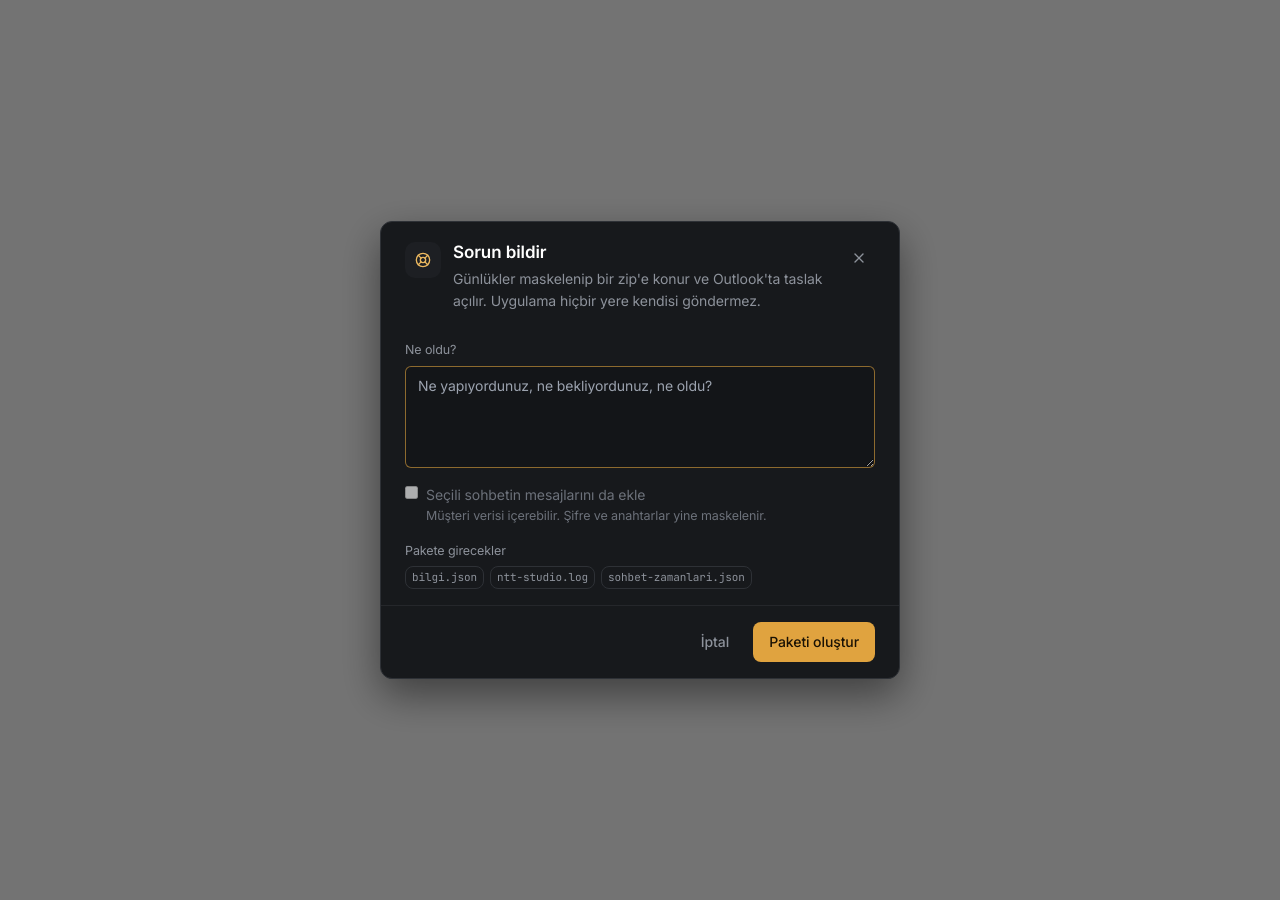
it: SupportDialog › sürerken düğme kapalı (çift tık iki paket yapmıyor); hata pencerede gösteriliyor
Click the button "Paketi oluştur" at (814, 642), box [753,622,875,662]
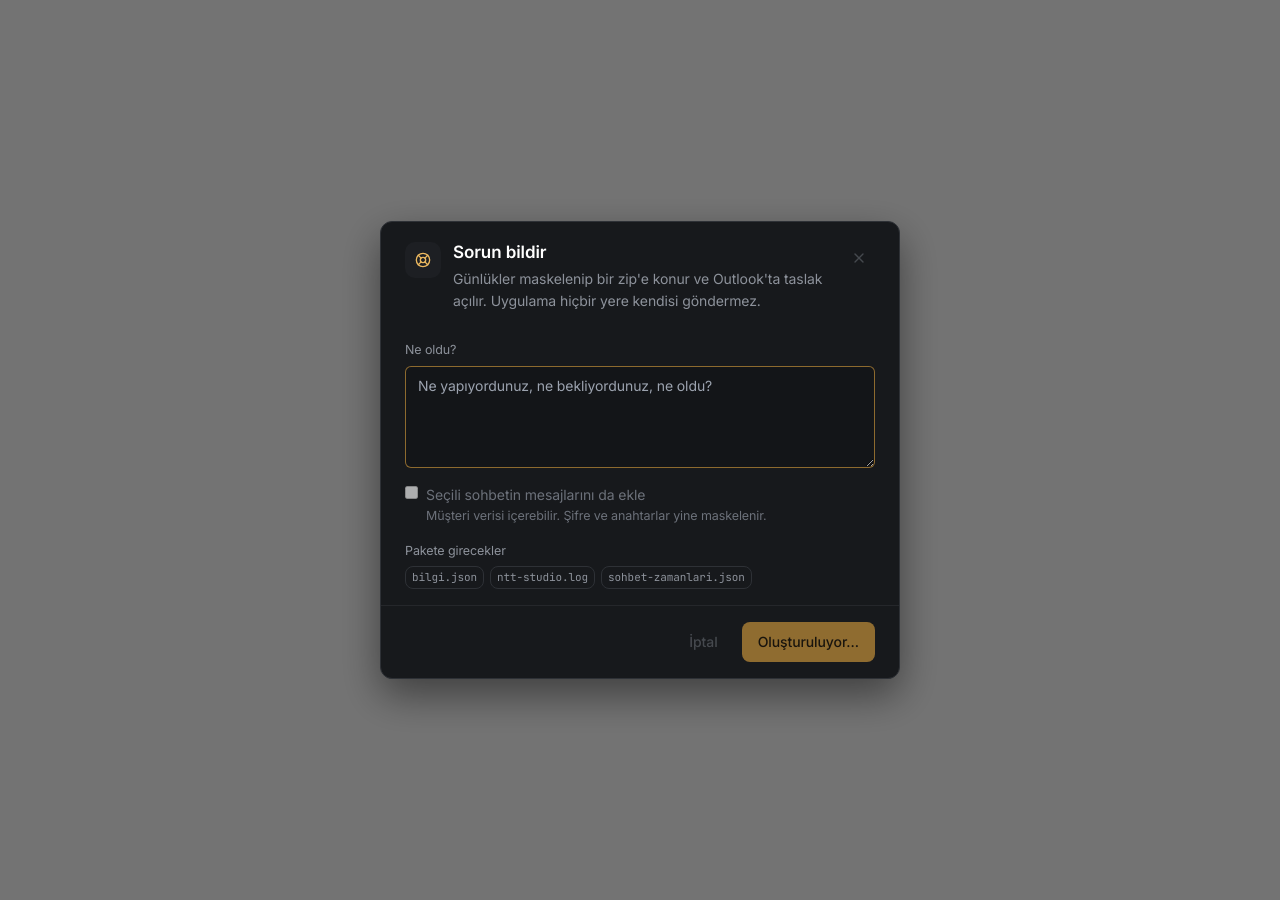
Click the button named "Paketi oluştur" at (808, 642), box [742,622,875,662]
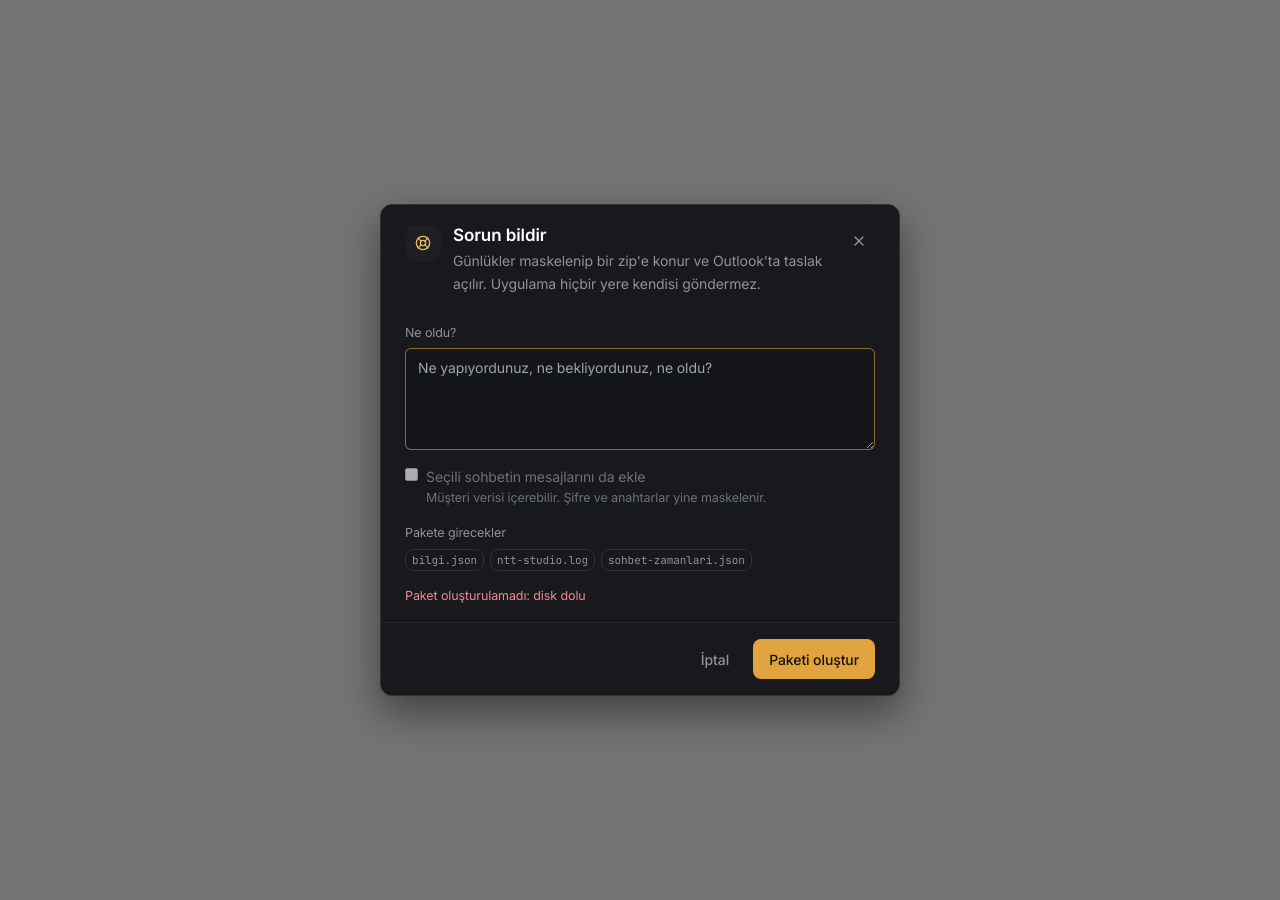
Now the text "Paket oluşturulamadı: disk dolu" is shown, box [405,588,586,603]
